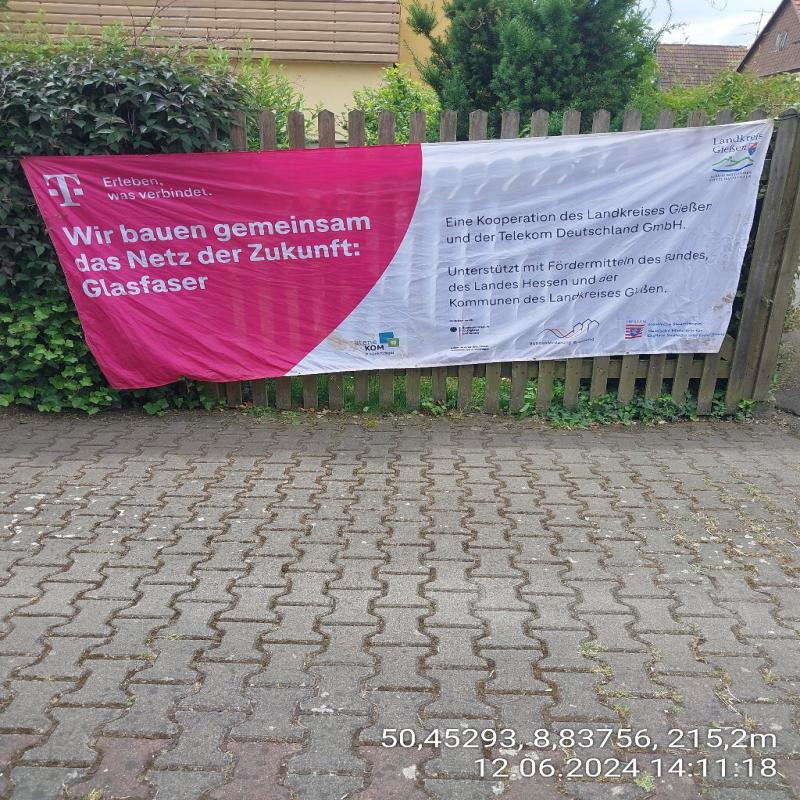Banner: (22, 118, 772, 389)
